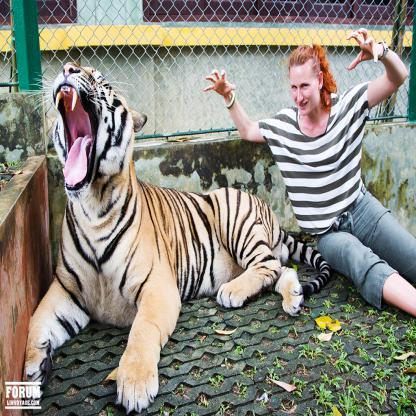tiger: (43, 61, 137, 205)
